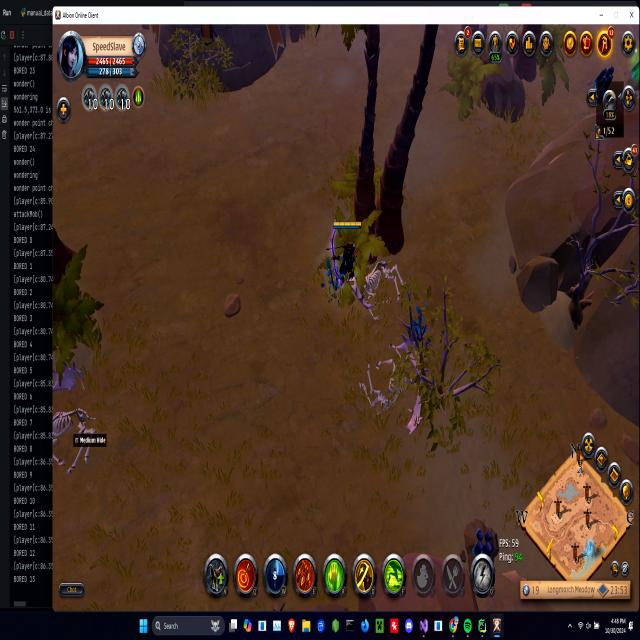player: (462, 514, 500, 576), (588, 64, 615, 112)
red: (332, 217, 362, 284)
